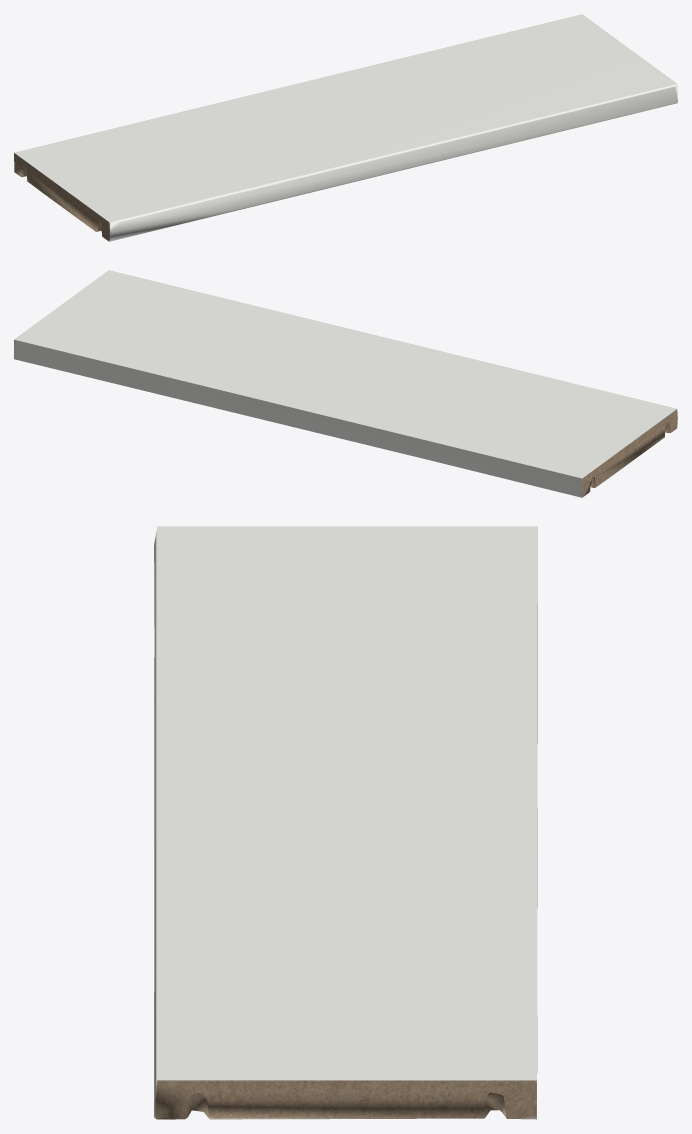
3 views of the same model, one above another, from view 1: azimuth 30°, elevation 25°; view 2: azimuth 150°, elevation 25°; view 3: azimuth 270°, elevation 25° (orthographic). The views are drawn at different scales.
Visible parts, largest first — view 1: ProcessedMeshNode; view 2: ProcessedMeshNode; view 3: ProcessedMeshNode.
Part boxes in pixels (left/top/right/bottom): ProcessedMeshNode: left=14, top=14, right=677, bottom=241; ProcessedMeshNode: left=14, top=270, right=677, bottom=497; ProcessedMeshNode: left=154, top=526, right=537, bottom=1119.
Bounding box in the file's own units: 14.3 × 0.4732 × 4.18.
1 material, 1 textured.
